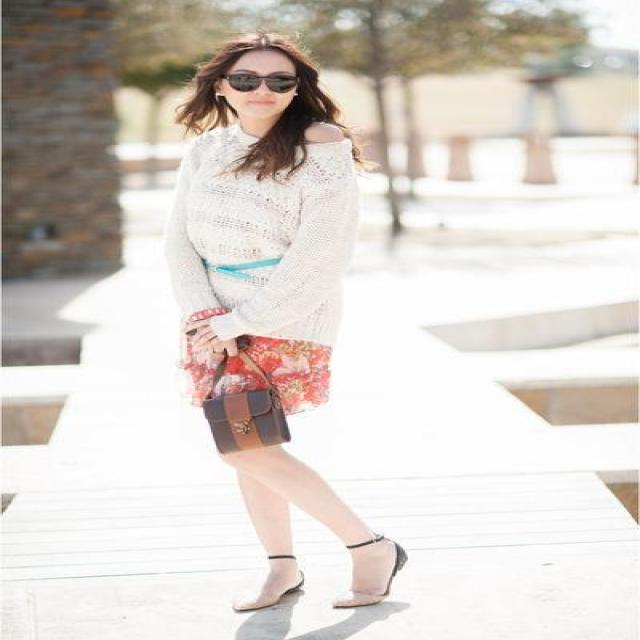bag: (202, 379, 286, 453)
jacket: (150, 115, 402, 345)
shoe: (249, 543, 406, 622)
skirt: (184, 294, 331, 414)
sunglass: (229, 69, 288, 92)
